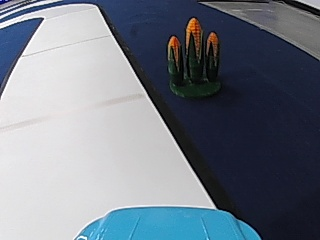corn: (164, 14, 223, 99)
